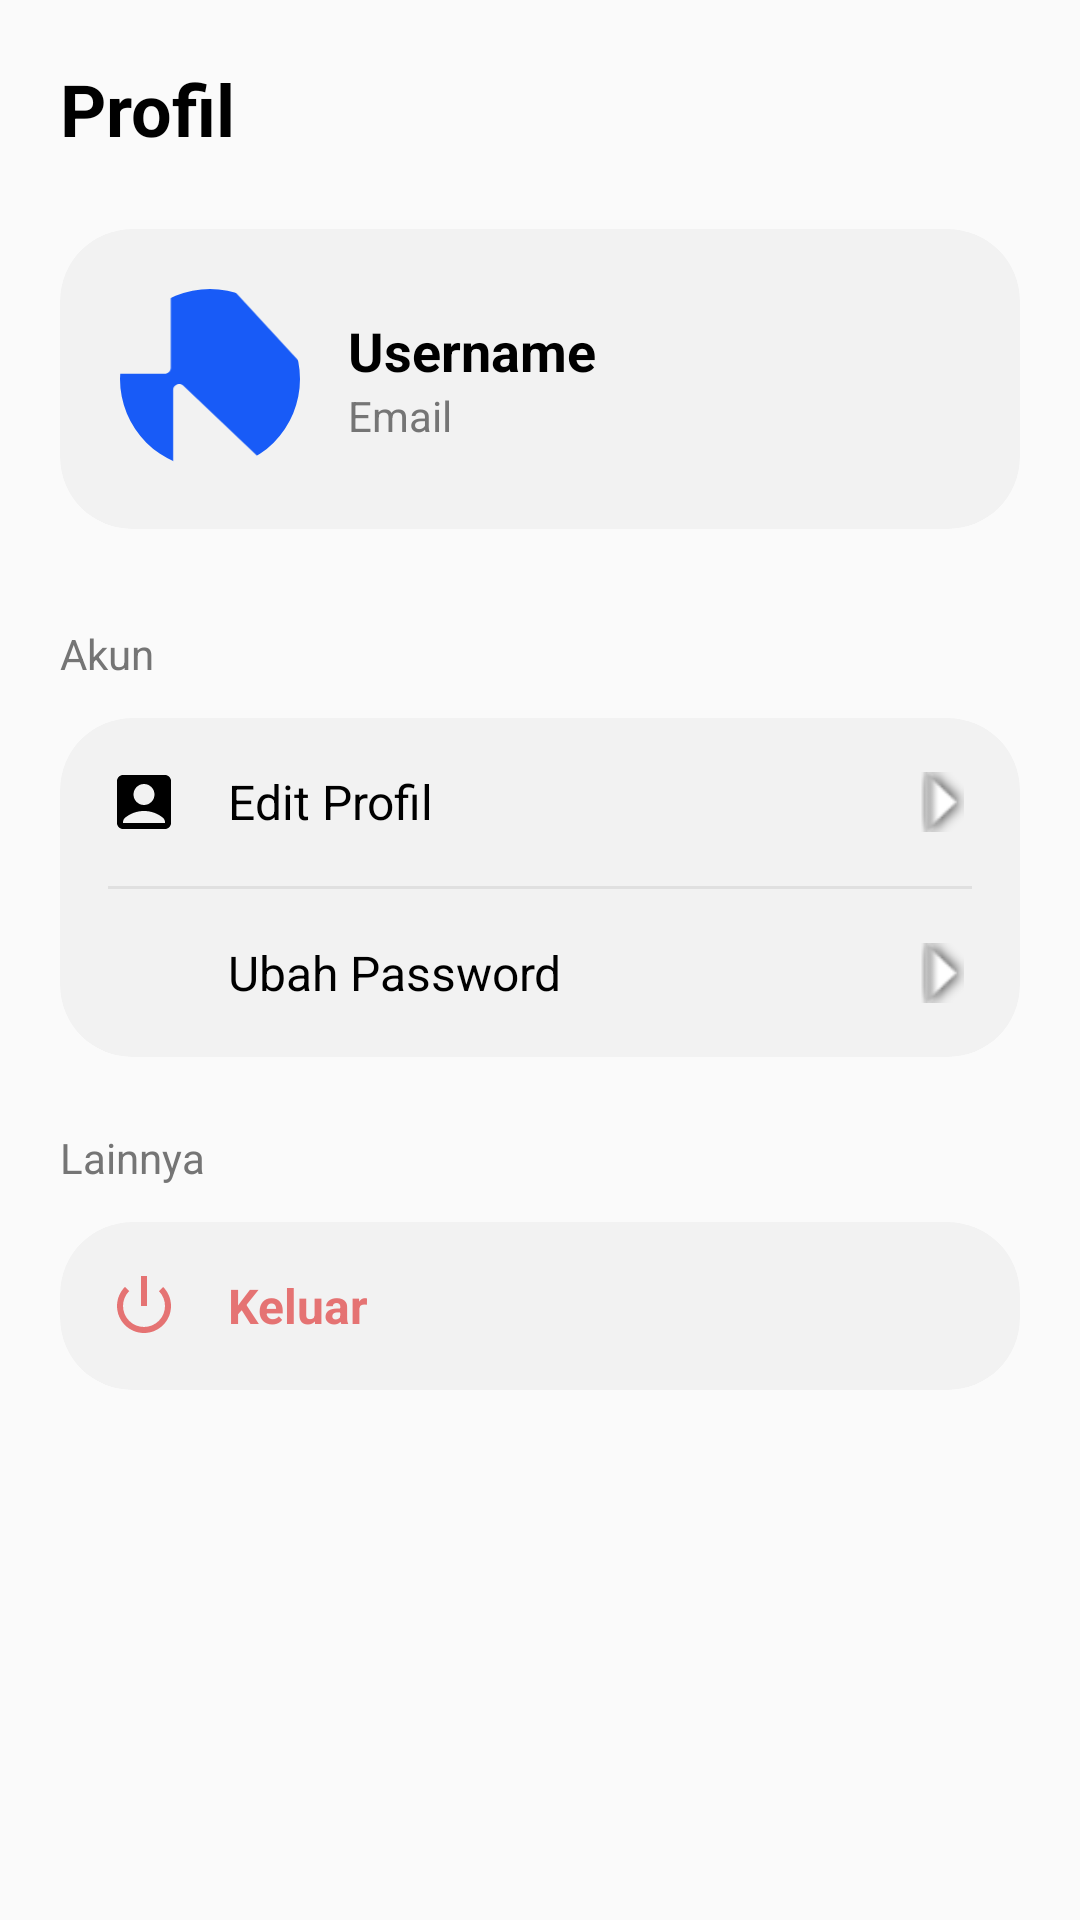

Icon click points for this 1080w x 1920h phone screenshot, format (x=x, y=y):
lock power off: (x=144, y=1304)
